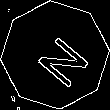N_NW: (23, 23, 87, 87)
